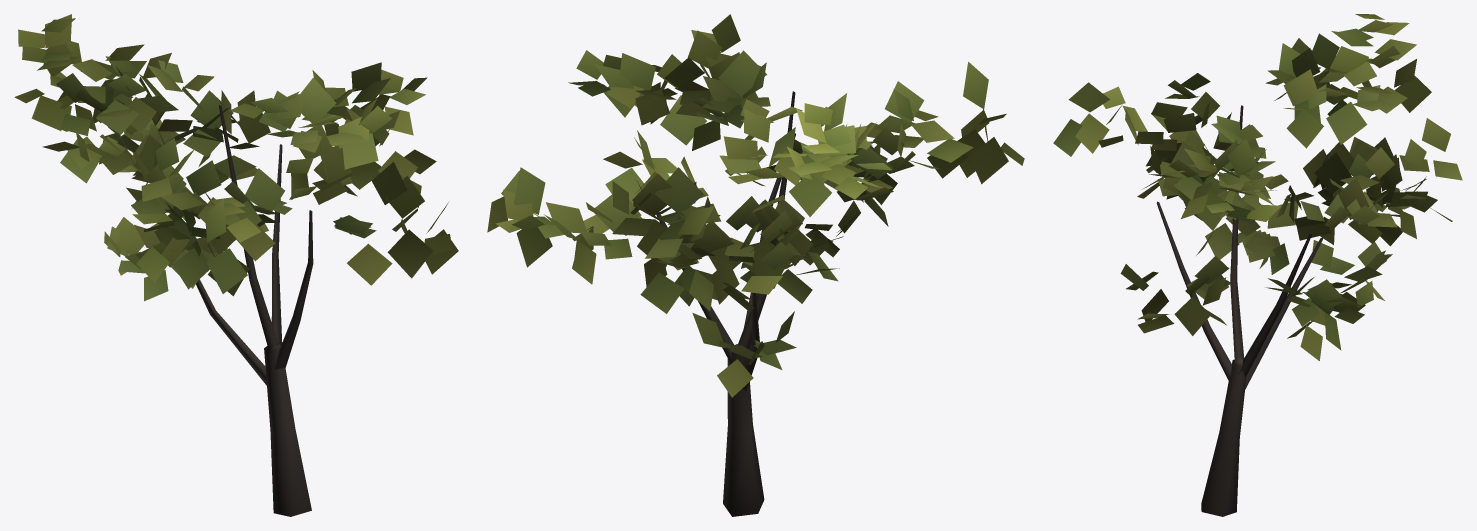
File: acacia-a.lod2.glb
The picture shows the model from 3 angles, left to right: view 1: azimuth 30°, elevation 25°; view 2: azimuth 150°, elevation 25°; view 3: azimuth 270°, elevation 25°; orthographic projection. The views are drawn at different scales.
Bounding box in the file's own units: 6.34 × 7.14 × 6.13.
